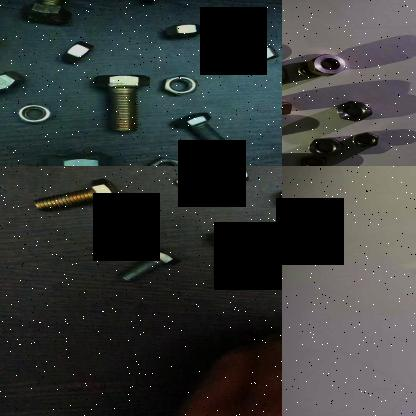Bolts: (206, 226, 270, 293), (88, 74, 156, 134), (30, 176, 132, 216), (112, 243, 183, 289), (170, 111, 232, 155), (171, 166, 259, 191), (18, 0, 88, 28), (37, 147, 111, 166)
NUTS: (223, 42, 282, 68), (158, 70, 208, 98), (12, 100, 56, 130), (50, 40, 102, 64), (303, 51, 350, 76), (158, 23, 216, 43), (333, 100, 379, 122), (304, 136, 348, 158), (0, 69, 25, 99), (349, 129, 381, 150), (293, 62, 321, 80), (146, 156, 192, 166), (298, 151, 328, 166), (282, 99, 296, 119)
